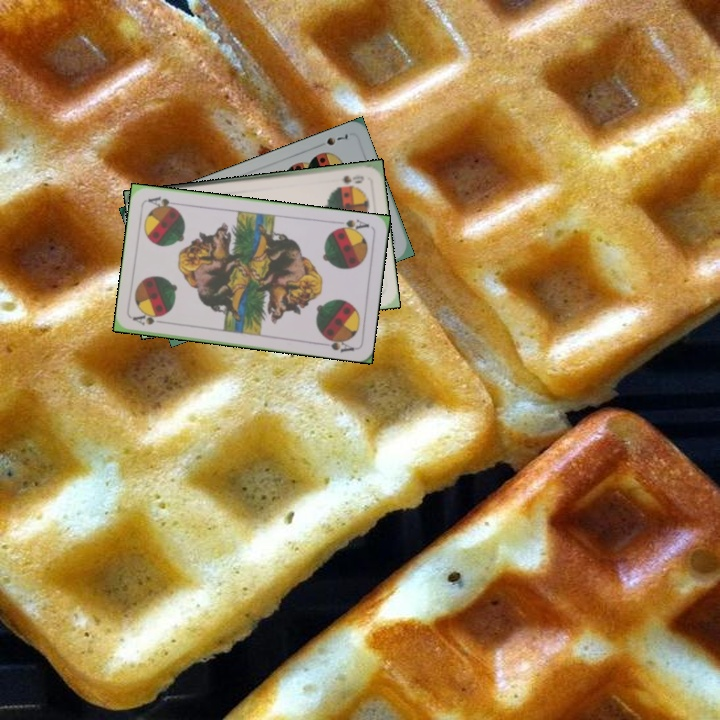S7: (322, 130, 350, 148)
SA: (331, 215, 372, 236), (130, 310, 170, 328)
SO: (338, 171, 367, 187)
